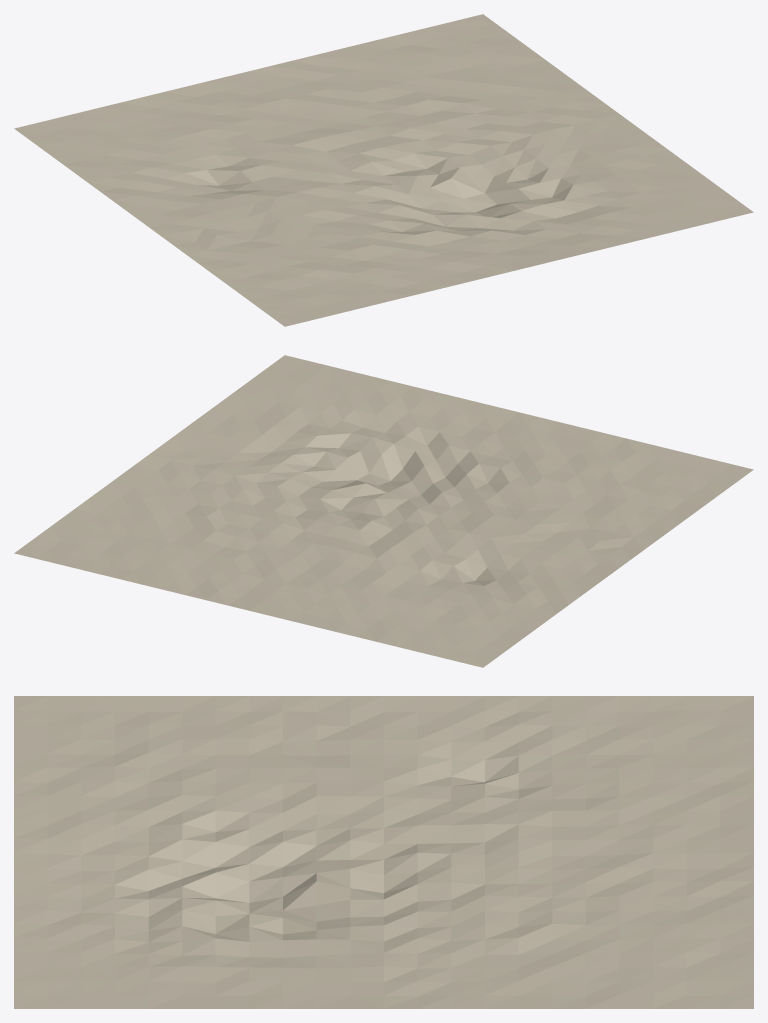
The model's file is Ground_s_03.fbx.
3 views of the same model, one above another, from view 1: azimuth 30°, elevation 25°; view 2: azimuth 150°, elevation 25°; view 3: azimuth 270°, elevation 25° (orthographic). The views are drawn at different scales.
Visible parts, largest first — view 1: Ground_s_03; view 2: Ground_s_03; view 3: Ground_s_03.
Part boxes in pixels (left/top/right/bottom): Ground_s_03: left=14, top=14, right=753, bottom=326; Ground_s_03: left=14, top=355, right=753, bottom=667; Ground_s_03: left=14, top=696, right=753, bottom=1008.
Size of the model in its own units: 5000 by 170 by 5000.
